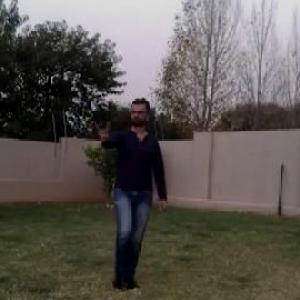takeoff-hand: (89, 114, 114, 148)
